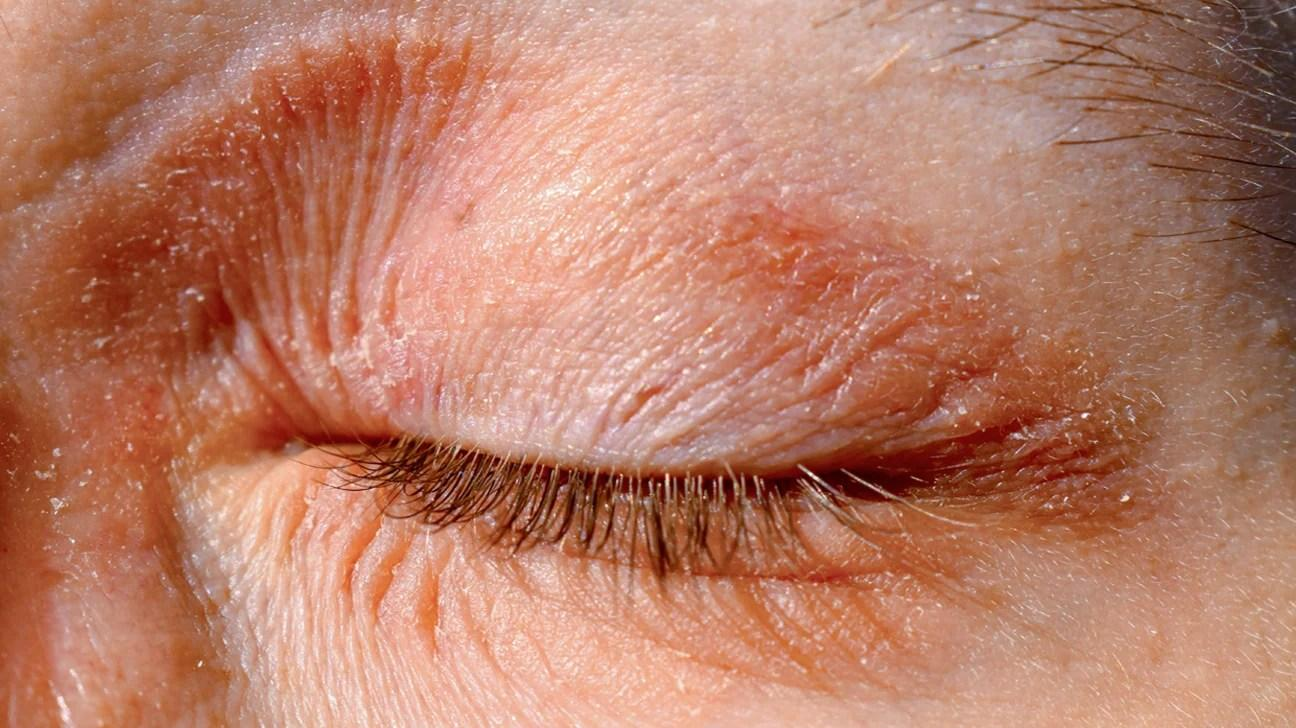Dry-Skin: (11, 77, 1027, 647)
